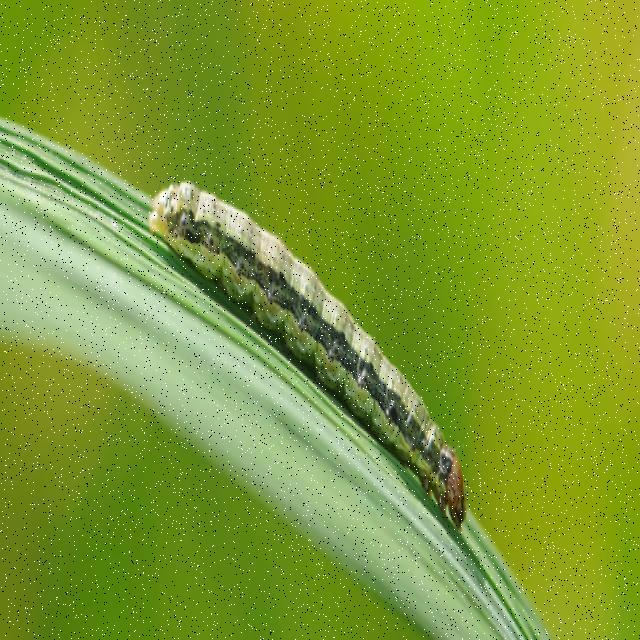army worm: (143, 145, 500, 528)
